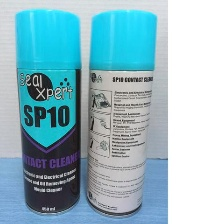aerosol_cans: (83, 5, 161, 221), (11, 5, 85, 219)
